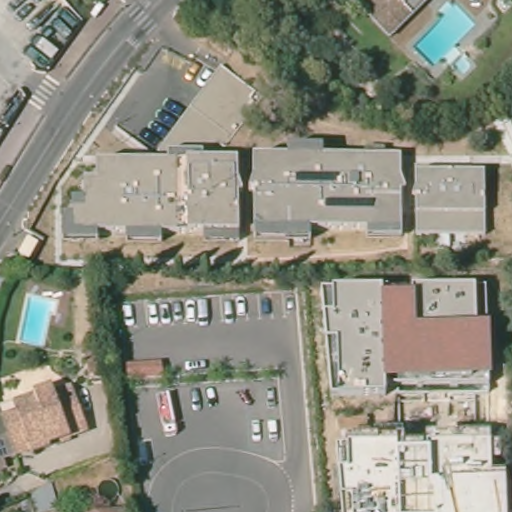pool: (411, 3, 479, 77), (15, 287, 61, 353)
